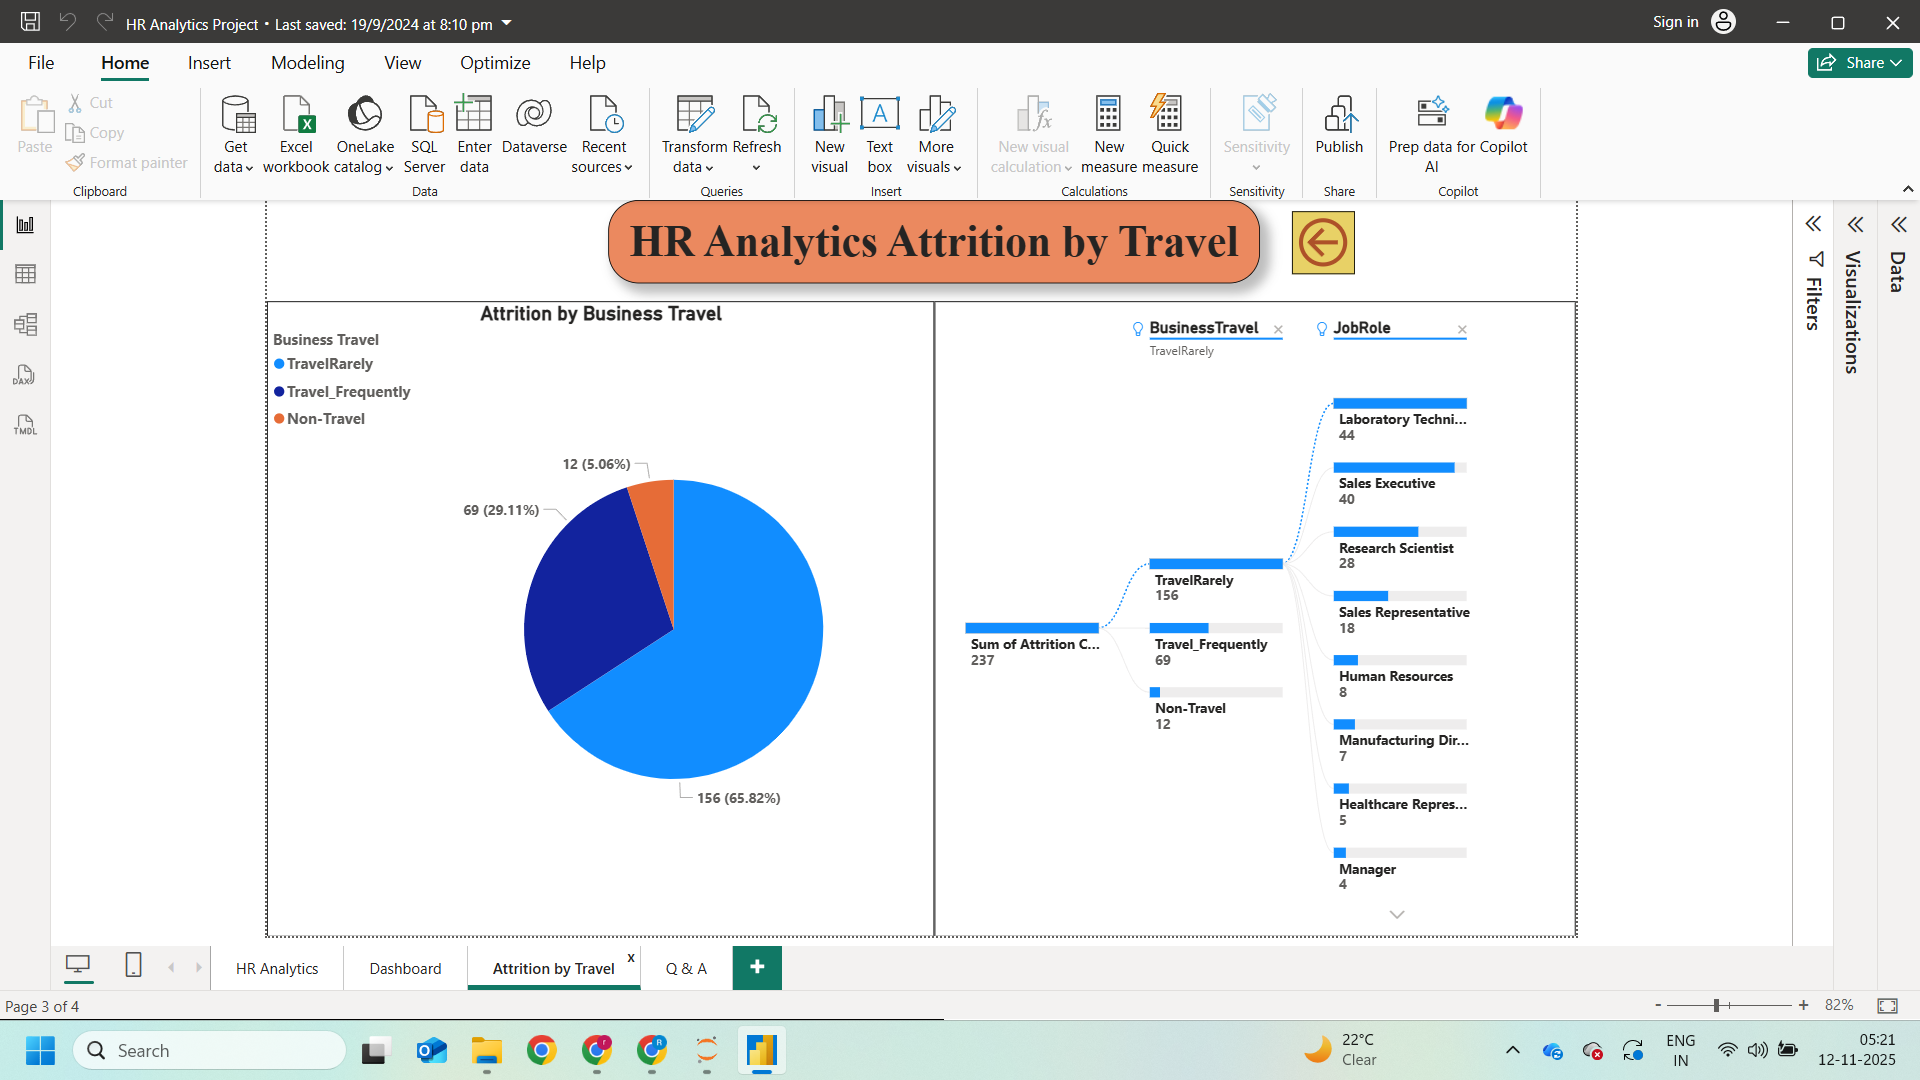

Layout of this report page (visuals, bound fields, positions):
{"tool":"powerbi","page":{"name":"Attrition by Travel","canvas":[1280,720],"ordinal":2},"visuals":[{"type":"textbox","box":[333.8,0,637.5,81.2],"z":0},{"type":"pieChart","title":"Attrition by Business Travel","fields":{"Y":["Sum(HR_Analytics.Attrition Count)"],"Category":["HR_Analytics.BusinessTravel"]},"box":[0,98.8,652.5,621.2],"z":1000},{"type":"decompositionTreeVisual","fields":{"ExplainBy":["HR_Analytics.BusinessTravel","HR_Analytics.JobRole"],"Analyze":["Sum(HR_Analytics.Attrition Count)"]},"box":[652.5,98.8,627.5,621.2],"z":2000},{"type":"actionButton","box":[1002.5,11.2,61.2,61.2],"z":3000}]}

Visuals, with their boxes on the page's 1280x720 design canvas (x1, y1, x2, y2). These are canvas units, not pixel positions in the 1920x1080 screenshot, which may show the page scaled, cropped or inside an application window:
textbox: box=[334, 0, 971, 81]
"Attrition by Business Travel" pieChart: box=[0, 99, 652, 720]
decompositionTreeVisual - HR_Analytics.BusinessTravel x HR_Analytics.JobRole: box=[652, 99, 1280, 720]
actionButton: box=[1002, 11, 1064, 72]
